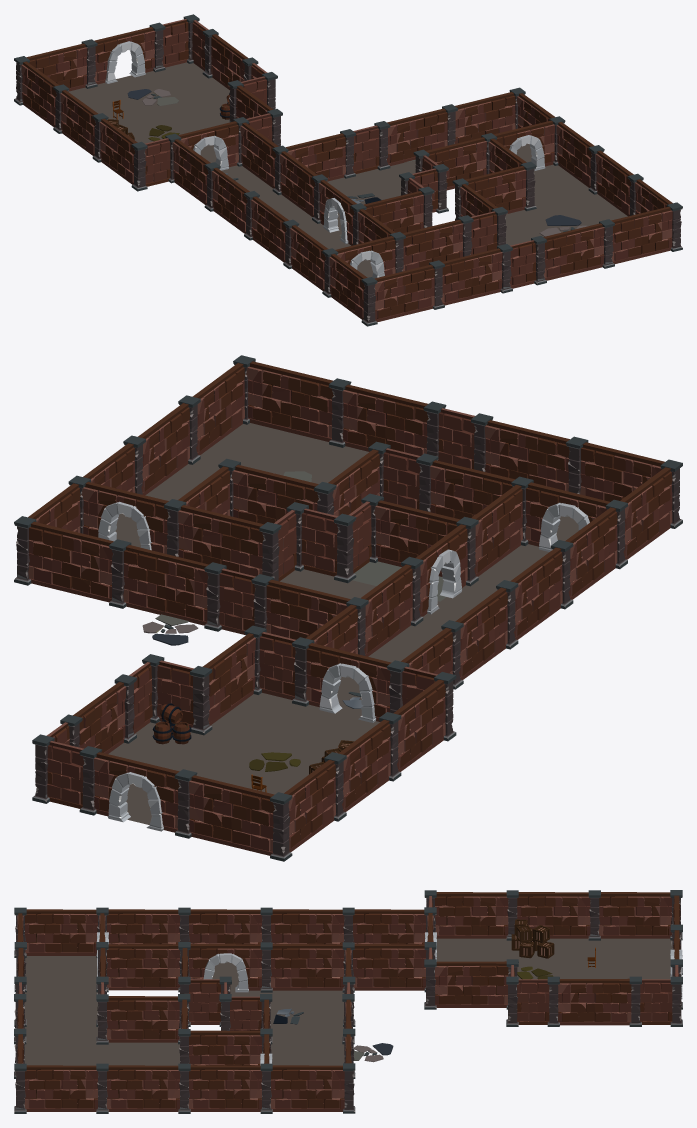
The model's file is Sample Level.fbx.
3 renders of one model, top to bottom at view 1: azimuth 30°, elevation 25°; view 2: azimuth 150°, elevation 25°; view 3: azimuth 270°, elevation 25°, orthographic. The views are drawn at different scales.
Parts seen in each view (by area): view 1: Plane, Wall 10m.024, Wall 10m.023, Wall 10m.020, Wall 10m.018, Door Wall.001, Brick 10m.003, Wall 10m.017, Brick 10m.002, Wall 10m.014, Wall 10m.001, Wall 10m.030 (+38 smaller); view 2: Plane, Wall 10m.001, Wall 10m.024, Wall 10m.018, Wall 10m.017, Door Wall.001, Wall 10m.023, Wall 10m.015, Door Wall.002, Door Wall.004, Brick 10m.003, Wall 10m.007 (+39 smaller); view 3: Plane, Wall 10m.016, Wall 10m.008, Wall 10m.022, Wall 10m.026, Wall 10m.009, Wall 10m.021, Wall 10m.002, Wall 10m.019, Wall 10m.005, Wall 10m.030, Wall 10m.004 (+30 smaller).
Part boxes in pixels (bbox=[...]): Plane: bbox=[68, 62, 627, 277]; Wall 10m.024: bbox=[599, 206, 672, 268]; Wall 10m.023: bbox=[531, 223, 604, 285]; Wall 10m.020: bbox=[374, 260, 444, 322]; Wall 10m.018: bbox=[387, 104, 457, 165]; Door Wall.001: bbox=[81, 27, 155, 88]; Brick 10m.003: bbox=[441, 248, 502, 305]; Wall 10m.017: bbox=[454, 87, 525, 143]; Brick 10m.002: bbox=[402, 219, 463, 271]; Wall 10m.014: bbox=[286, 129, 355, 181]; Wall 10m.001: bbox=[14, 43, 87, 105]; Wall 10m.030: bbox=[329, 254, 377, 326]; Plane: bbox=[108, 423, 578, 824]; Wall 10m.001: bbox=[188, 775, 292, 861]; Wall 10m.024: bbox=[246, 361, 351, 447]; Wall 10m.018: bbox=[109, 539, 208, 625]; Wall 10m.017: bbox=[14, 516, 113, 602]; Door Wall.001: bbox=[94, 752, 197, 838]; Wall 10m.023: bbox=[342, 384, 446, 460]; Wall 10m.015: bbox=[178, 505, 281, 581]; Door Wall.002: bbox=[292, 637, 391, 722]; Door Wall.004: bbox=[81, 481, 186, 556]; Brick 10m.003: bbox=[484, 420, 569, 491]; Wall 10m.007: bbox=[190, 633, 255, 735]; Plane: bbox=[24, 938, 672, 1065]; Wall 10m.016: bbox=[260, 1063, 344, 1113]; Wall 10m.008: bbox=[557, 976, 641, 1026]; Wall 10m.022: bbox=[14, 1063, 98, 1113]; Wall 10m.026: bbox=[178, 1063, 262, 1113]; Wall 10m.009: bbox=[260, 942, 344, 992]; Wall 10m.021: bbox=[96, 1063, 180, 1113]; Wall 10m.002: bbox=[588, 890, 671, 940]; Wall 10m.019: bbox=[96, 994, 179, 1044]; Wall 10m.005: bbox=[342, 942, 426, 992]; Wall 10m.030: bbox=[14, 907, 98, 957]; Wall 10m.004: bbox=[424, 890, 508, 938].
Size of the model in its own units: 5155 by 612 by 8156.
